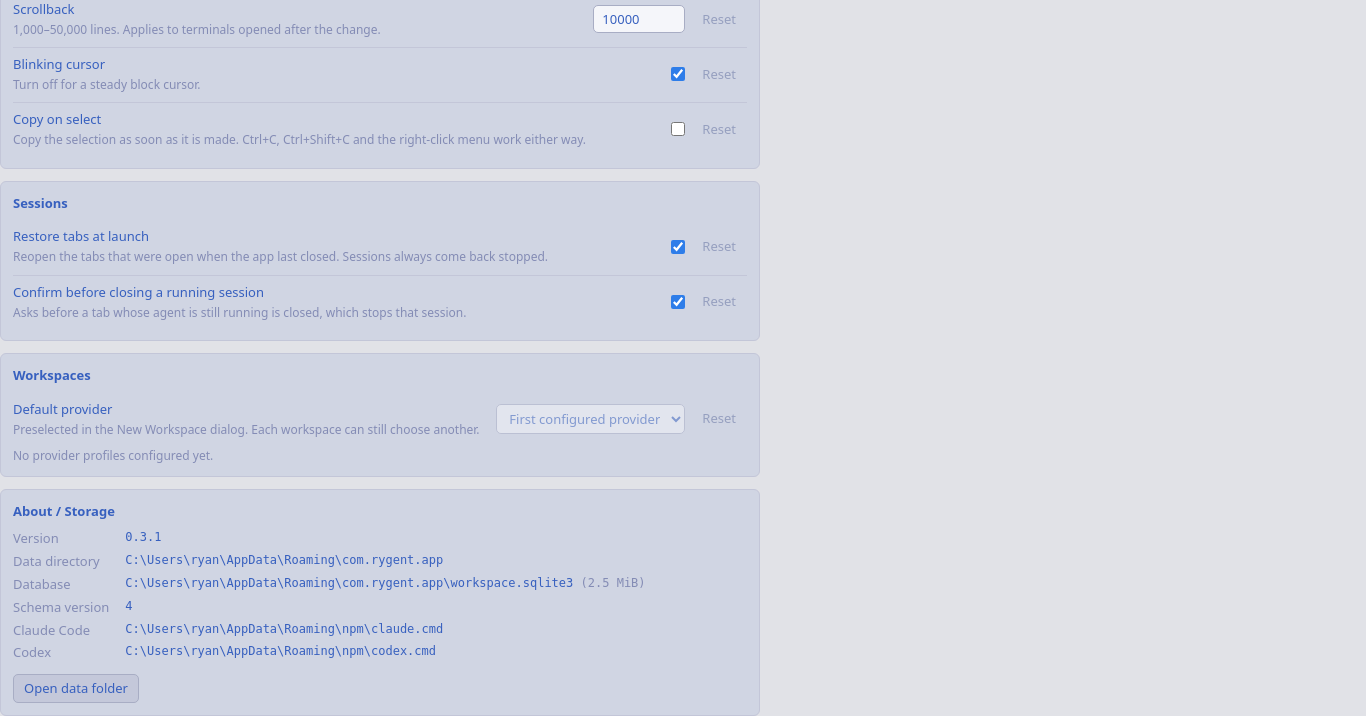
Test: SettingsPanel: About / Storage › opens the data folder on request, and reports a refusal inline
(page scrolled)
Click the button "Open data folder".
click(76, 689)  # box x1=13 y1=674 x2=139 y2=703
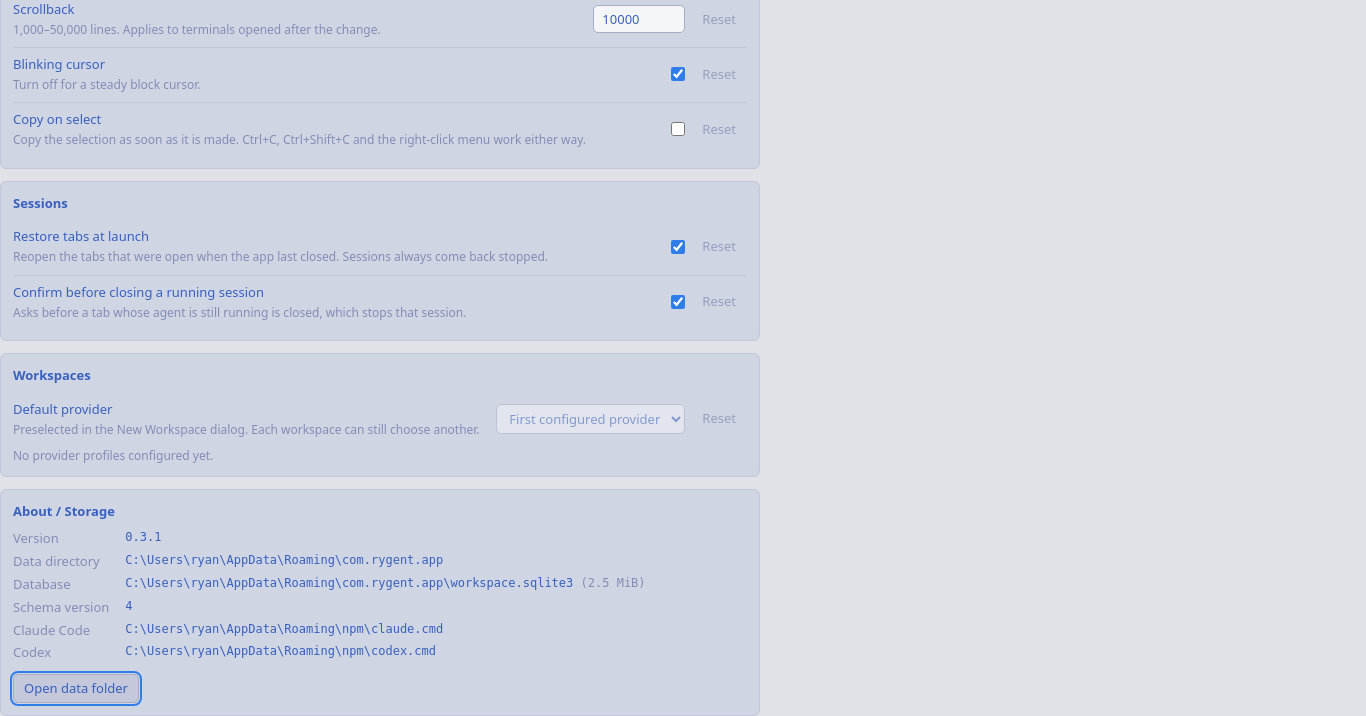
Click the button "Open data folder".
click(76, 689)  # box x1=13 y1=674 x2=139 y2=703
(page scrolled)
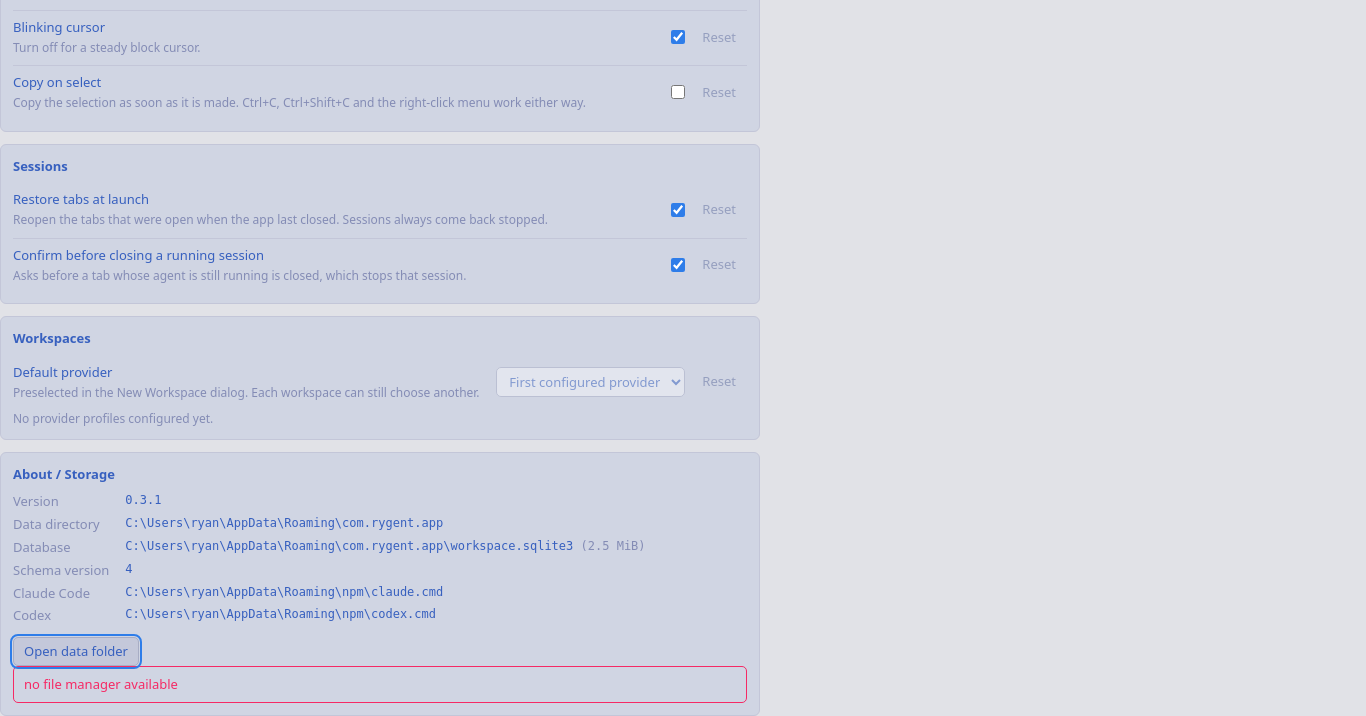
Expected: the message reads "no file manager available", x1=24 y1=675 x2=178 y2=693
